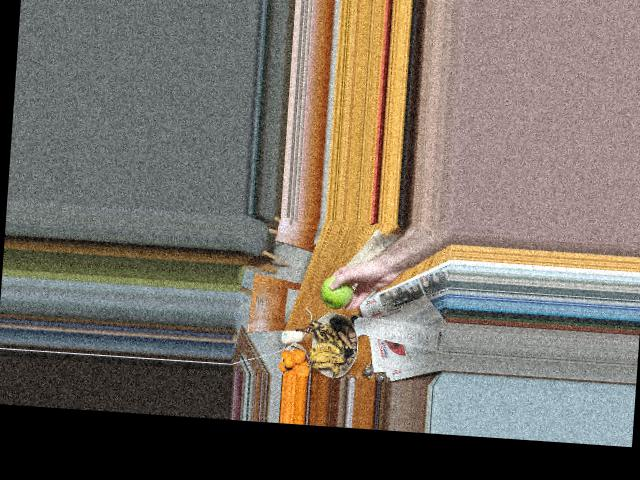apple: (318, 272, 360, 310)
